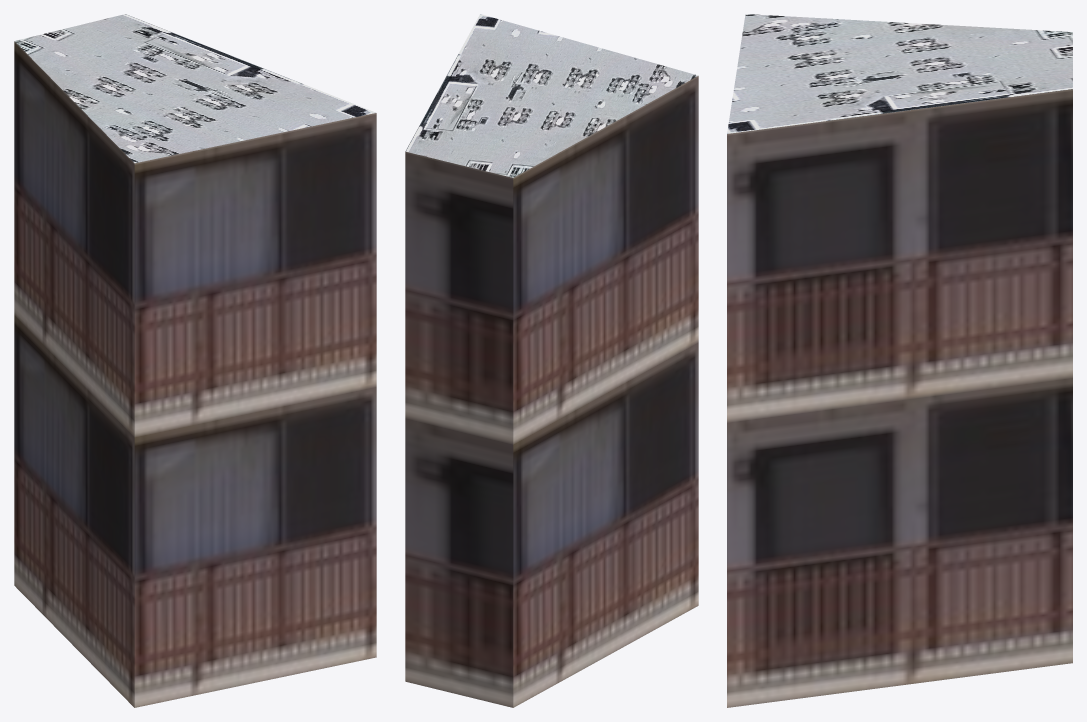
File: ResTex__628.fbx
The picture shows the model from 3 angles, left to right: view 1: azimuth 30°, elevation 25°; view 2: azimuth 150°, elevation 25°; view 3: azimuth 270°, elevation 25°; orthographic projection. The views are drawn at different scales.
Parts seen in each view (by area): view 1: CityEngineMaterial_6_m, CityEngineMaterial_8_m; view 2: CityEngineMaterial_6_m, CityEngineMaterial_8_m; view 3: CityEngineMaterial_6_m, CityEngineMaterial_8_m.
Part boxes in pixels (x1=…): CityEngineMaterial_6_m: x1=14, y1=41, x2=376, y2=707; CityEngineMaterial_8_m: x1=14, y1=14, x2=375, y2=163; CityEngineMaterial_6_m: x1=405, y1=76, x2=698, y2=707; CityEngineMaterial_8_m: x1=405, y1=14, x2=698, y2=177; CityEngineMaterial_6_m: x1=727, y1=89, x2=1072, y2=707; CityEngineMaterial_8_m: x1=727, y1=14, x2=1072, y2=133.
Size of the model in its own units: 2.69 by 6 by 3.28.
2 materials, 2 textured.
